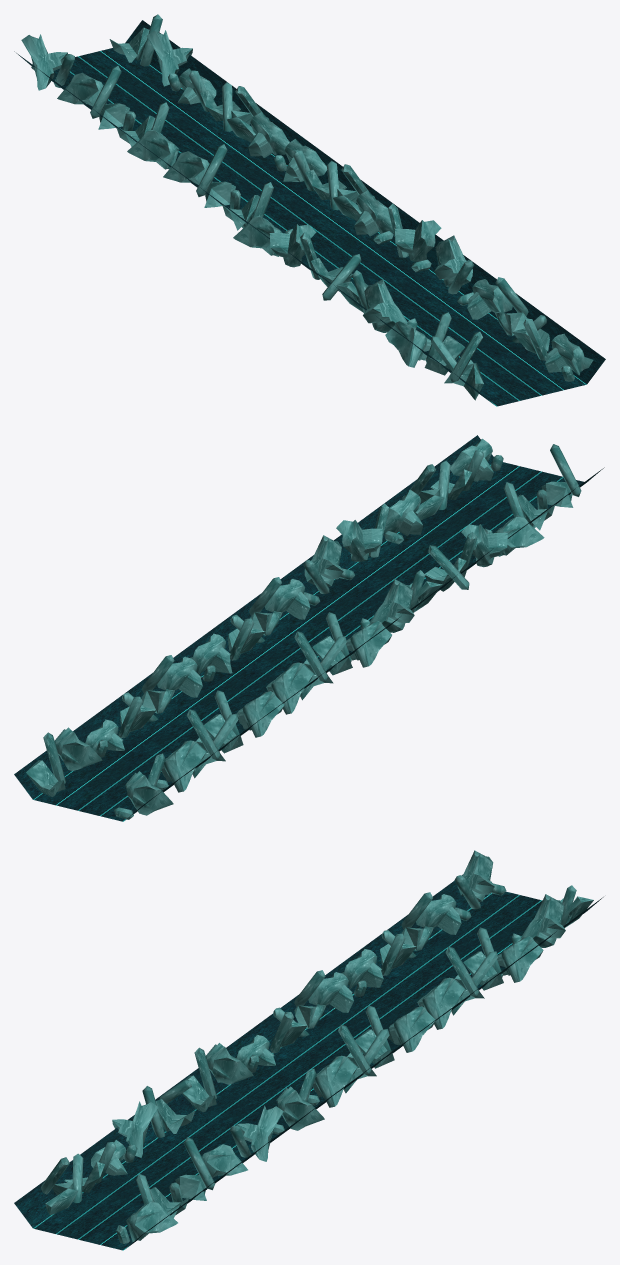
The model's file is section.FBX.
3 renders of one model, top to bottom at view 1: azimuth 30°, elevation 25°; view 2: azimuth 150°, elevation 25°; view 3: azimuth 330°, elevation 25°, orthographic.
Parts seen in each view (by area): view 1: cristaux, Piste; view 2: cristaux, Piste; view 3: cristaux, Piste.
Boxes of the visible parts, <box> form: cristaux: <box>21,14,593,400</box>; Piste: <box>14,20,605,406</box>; cristaux: <box>26,438,581,819</box>; Piste: <box>14,435,604,821</box>; cristaux: <box>41,850,593,1243</box>; Piste: <box>14,874,603,1250</box>.
Size of the model in its own units: 1461 by 664 by 8258.
